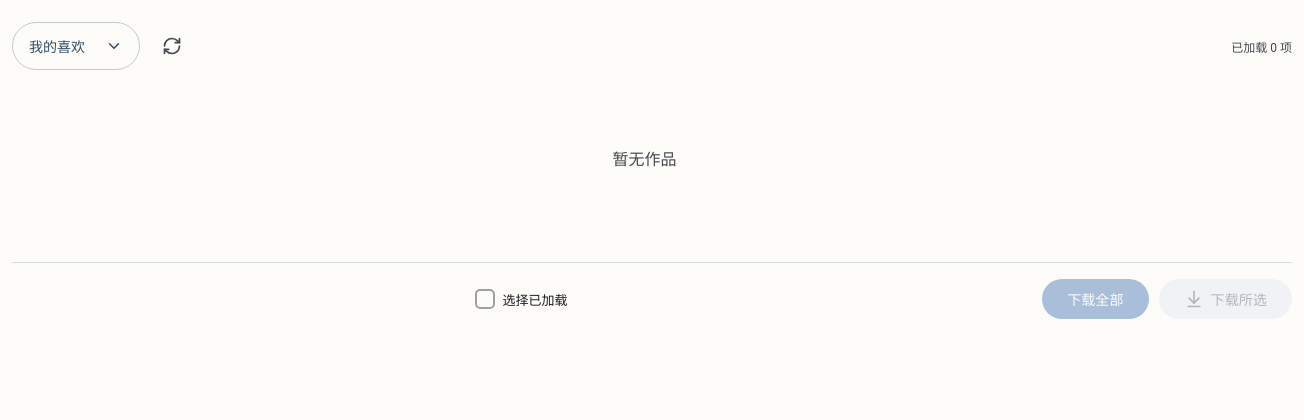
Test: opens a collection folder and keeps failed queue selections for retry
This screenshot has width=1304, height=420.
Check: the text "暂无作品" is shown, box [612,150,676,169]
Click the dropdown: (76, 46) [12,22,140,70]
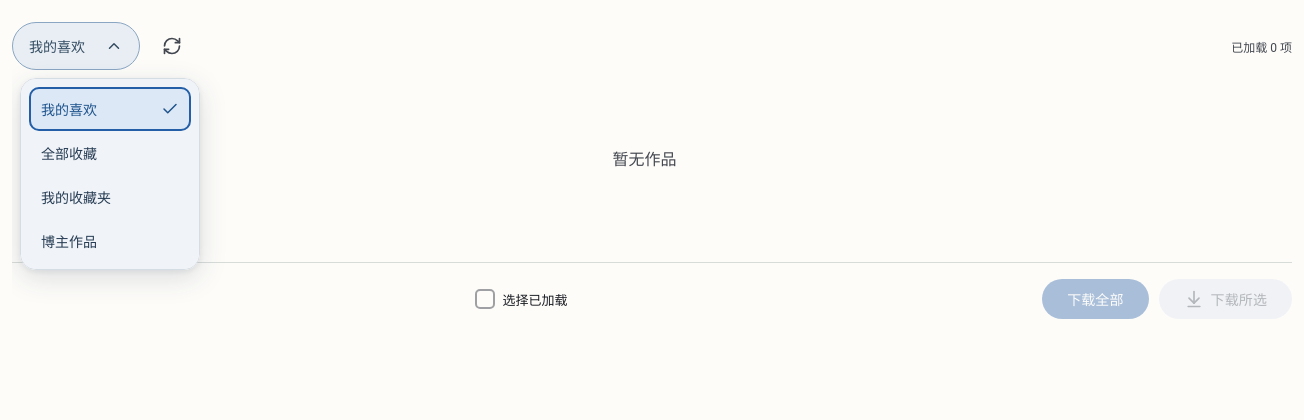
Click the option "我的收藏夹": (76, 198) [41,190,111,206]
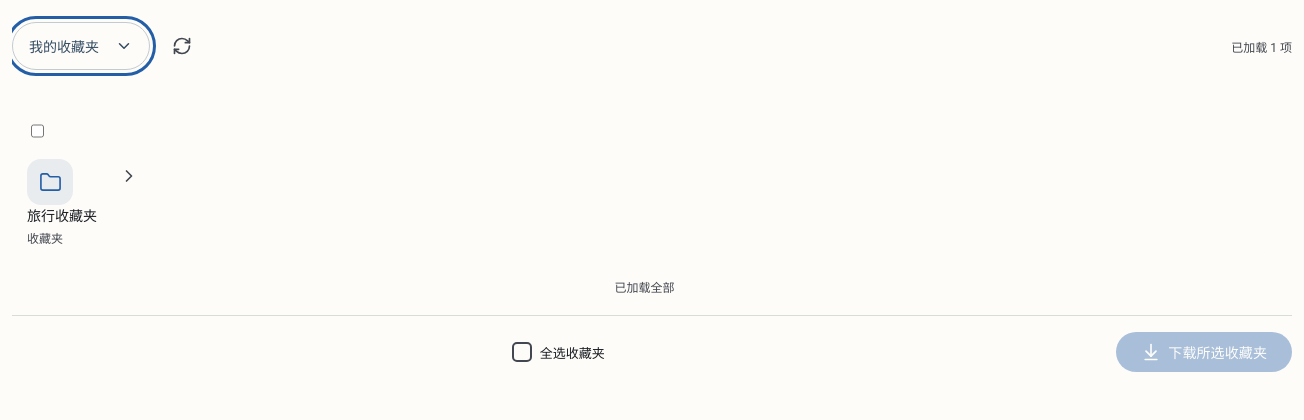
Click the button named "查看收藏夹 旅行收藏夹": (129, 176) [109,156,149,196]
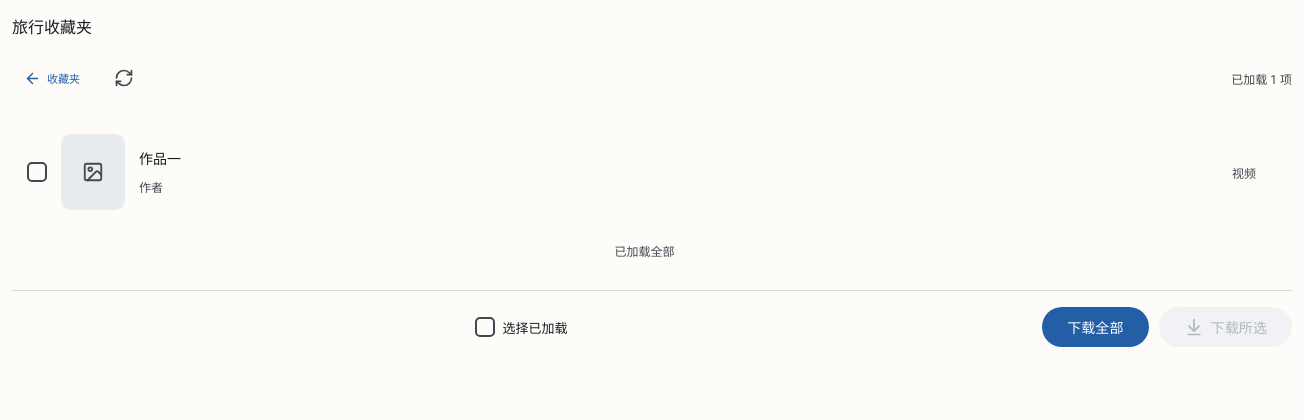
Check: the text "作品一" is shown, box [139,151,181,167]
Click the checkbox named "选择 作品一": (37, 172) [27,162,47,182]
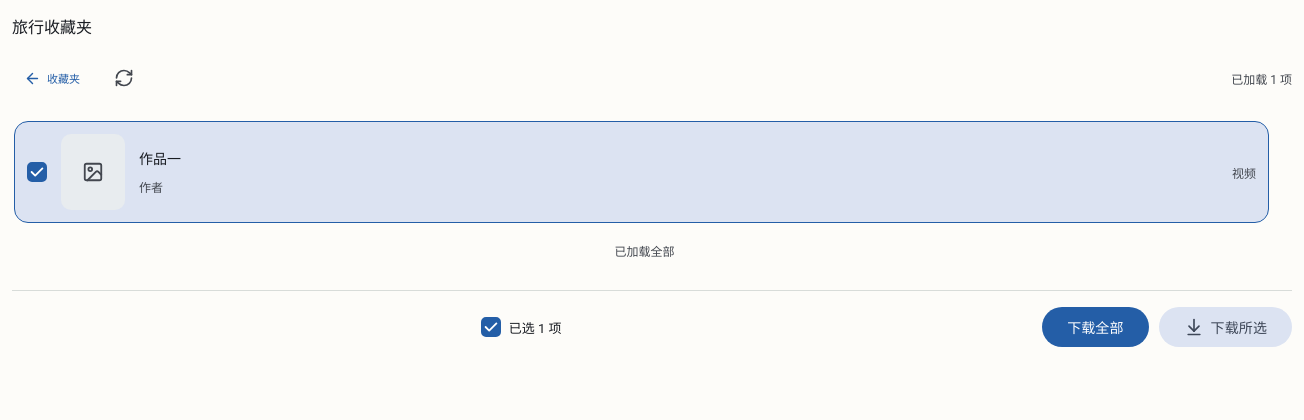
Click the button "下载所选": (1225, 327) [1159,307,1292,347]
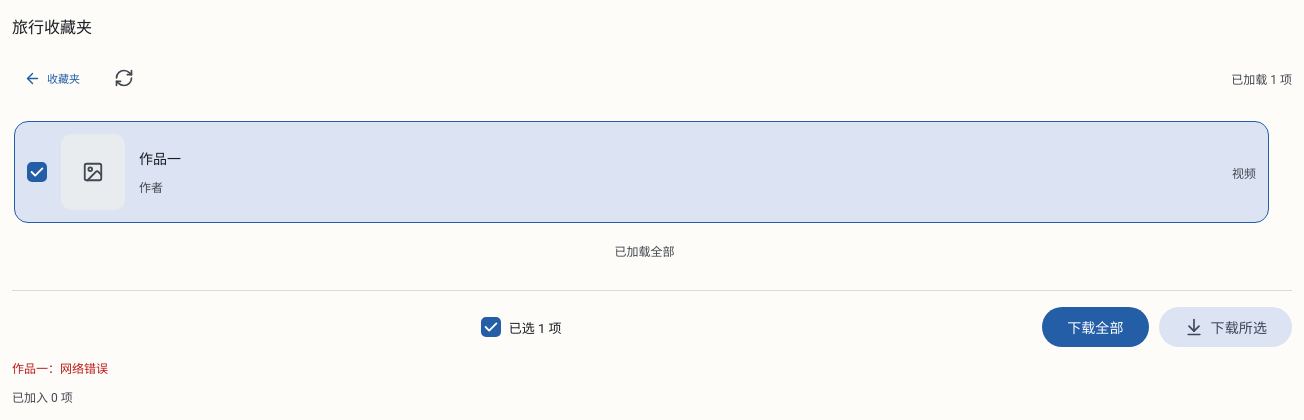
Check: the checkbox named "选择 作品一" is checked, box [27,162,47,182]
Check: the message "作品一：网络错误" is shown, box [12,362,108,376]
Click the button "下载所选": (1225, 327) [1159,307,1292,347]
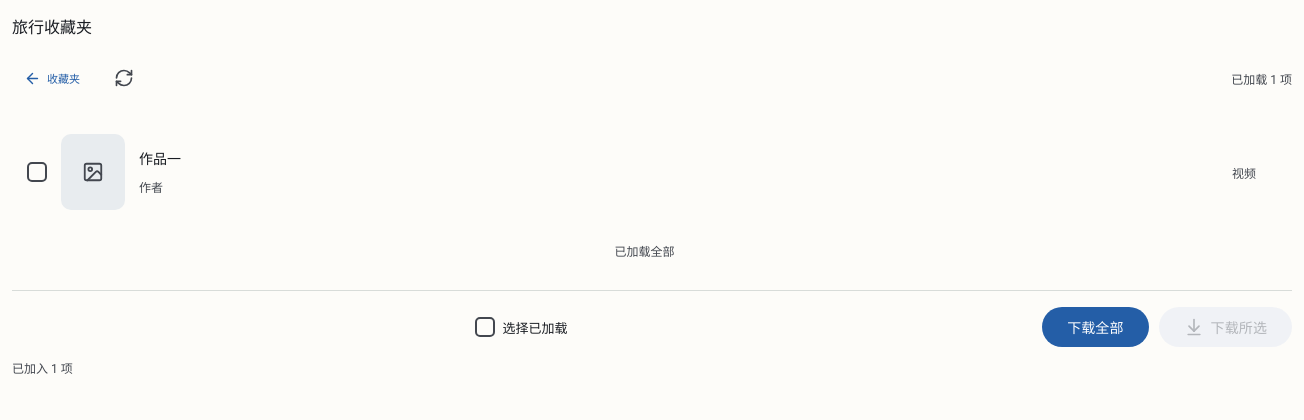
Check: the message reads "已加入 1 项", box [12,362,73,376]
